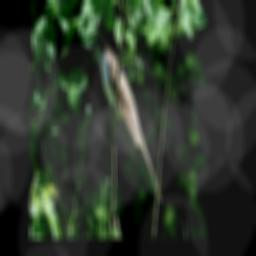Cuckoo: (90, 32, 163, 205)
